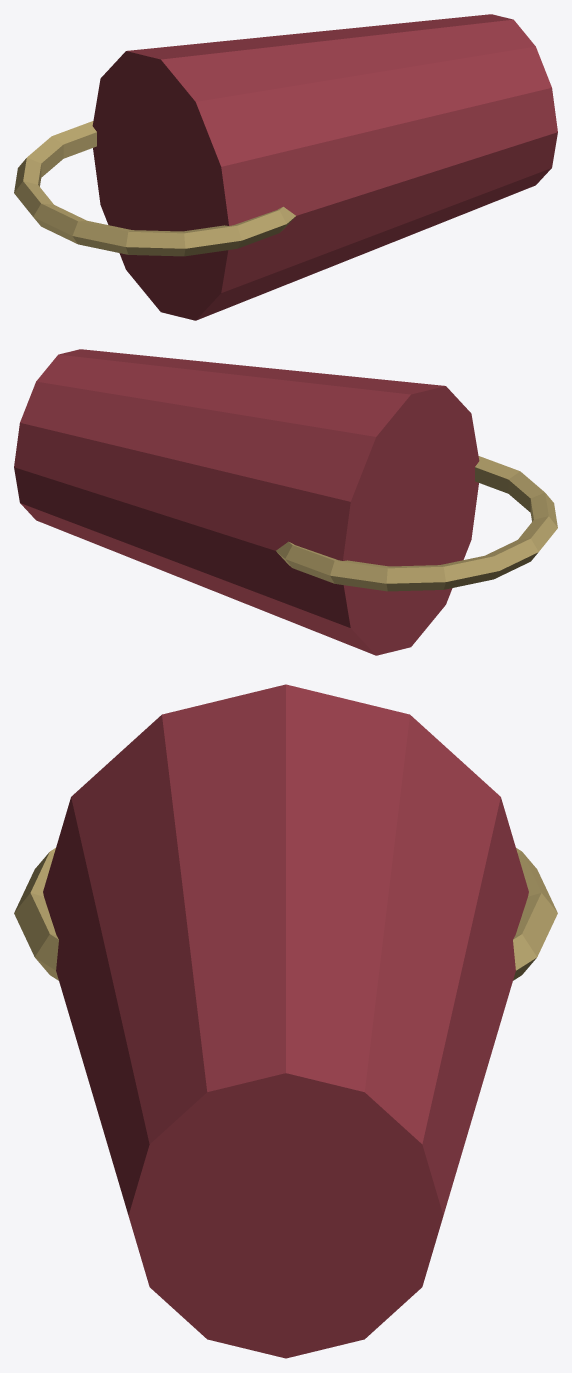
File: SinCuffRight.fbx
3 renders of one model, top to bottom at view 1: azimuth 30°, elevation 25°; view 2: azimuth 150°, elevation 25°; view 3: azimuth 270°, elevation 25°, orthographic. The views are drawn at different scales.
Parts seen in each view (by area): view 1: SinCuffRight; view 2: SinCuffRight; view 3: SinCuffRight.
Boxes of the visible parts, bbox=[...] form: SinCuffRight: bbox=[14, 14, 557, 320]; SinCuffRight: bbox=[14, 349, 557, 655]; SinCuffRight: bbox=[14, 684, 557, 1358].
Size of the model in its own units: 20.7 by 10.4 by 11.4.
